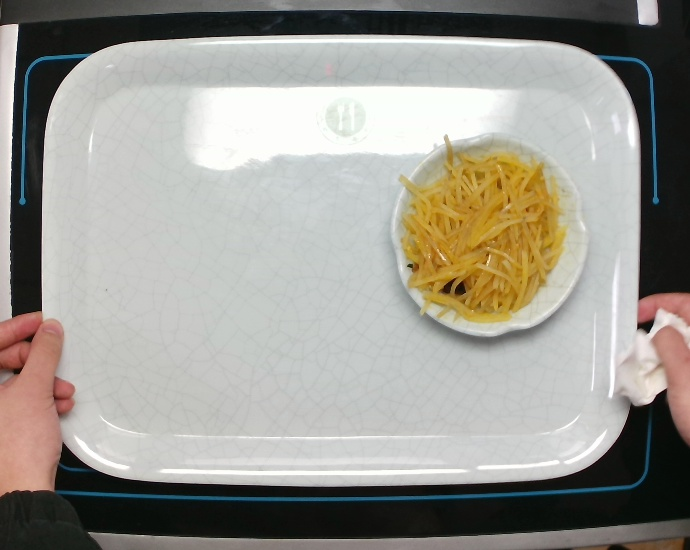JYsf-Ao_Yuan_Wan: (381, 125, 597, 340)
